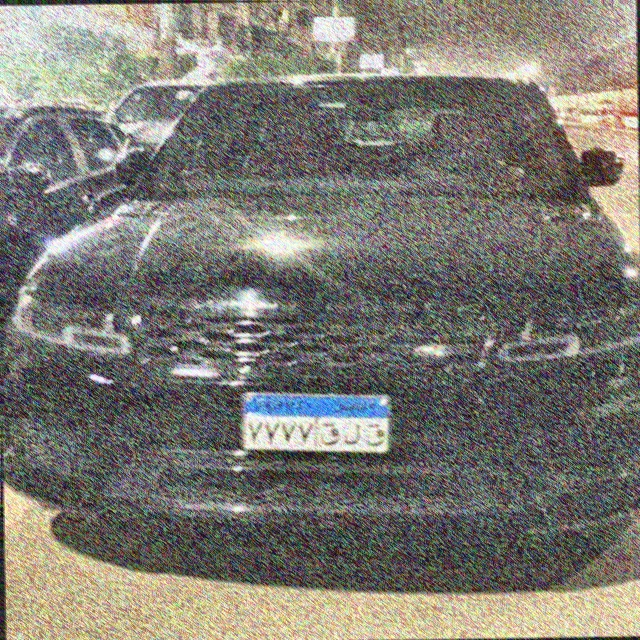License Plate: (239, 389, 394, 454)
